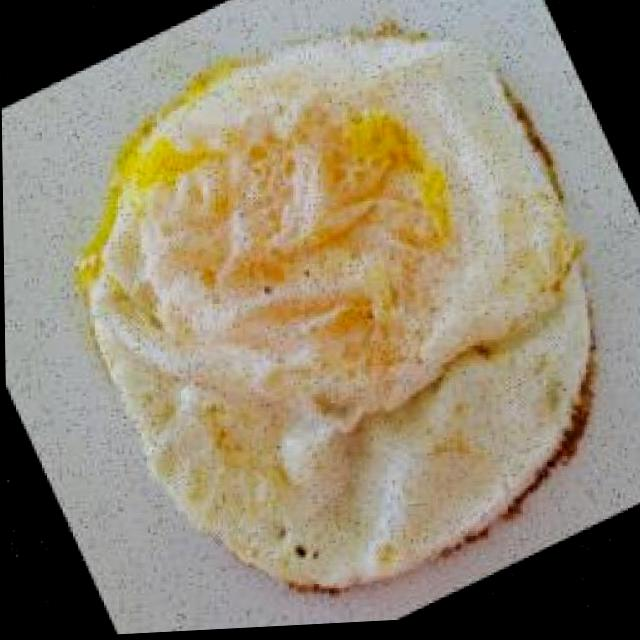fried_eggs: (2, 0, 640, 640)
